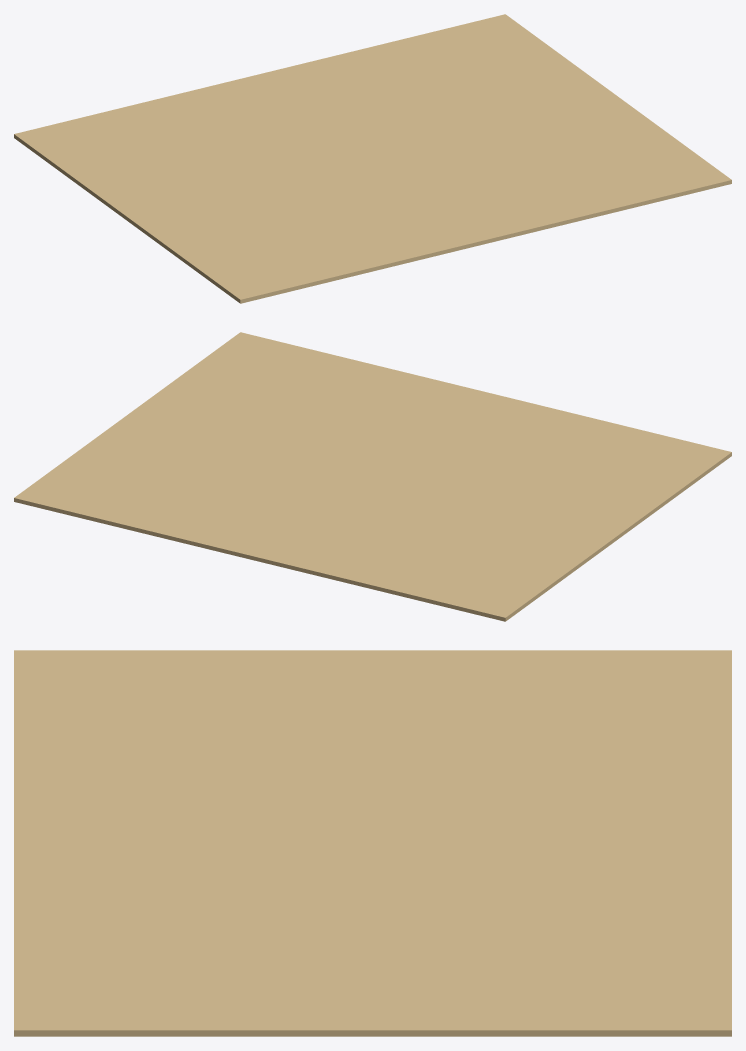
3 views of the same model, one above another, from view 1: azimuth 30°, elevation 25°; view 2: azimuth 150°, elevation 25°; view 3: azimuth 270°, elevation 25° (orthographic). The views are drawn at different scales.
Parts seen in each view (by area): view 1: 支流1_独立纸底.001; view 2: 支流1_独立纸底.001; view 3: 支流1_独立纸底.001.
Boxes of the visible parts, <box> form: 支流1_独立纸底.001: <box>14,14,731,303</box>; 支流1_独立纸底.001: <box>14,332,731,621</box>; 支流1_独立纸底.001: <box>14,650,731,1036</box>.
Bounding box in the file's own units: 1.04 × 0.008 × 0.83.
